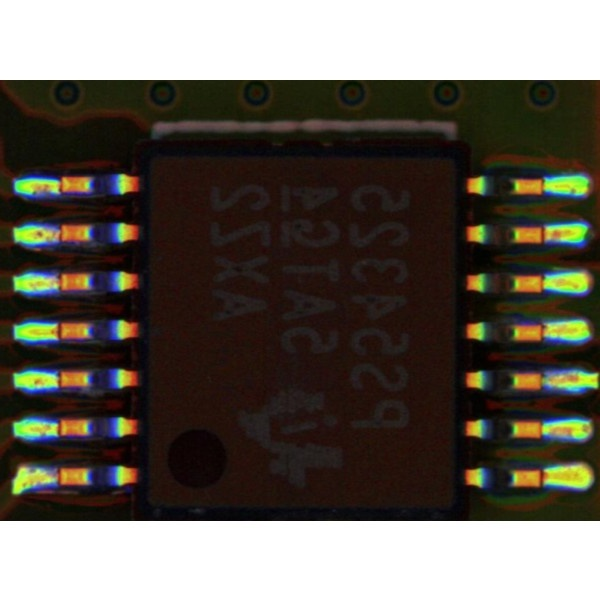Bad_podu: (529, 229, 560, 242), (527, 327, 559, 339), (530, 471, 557, 483), (44, 327, 72, 338)
